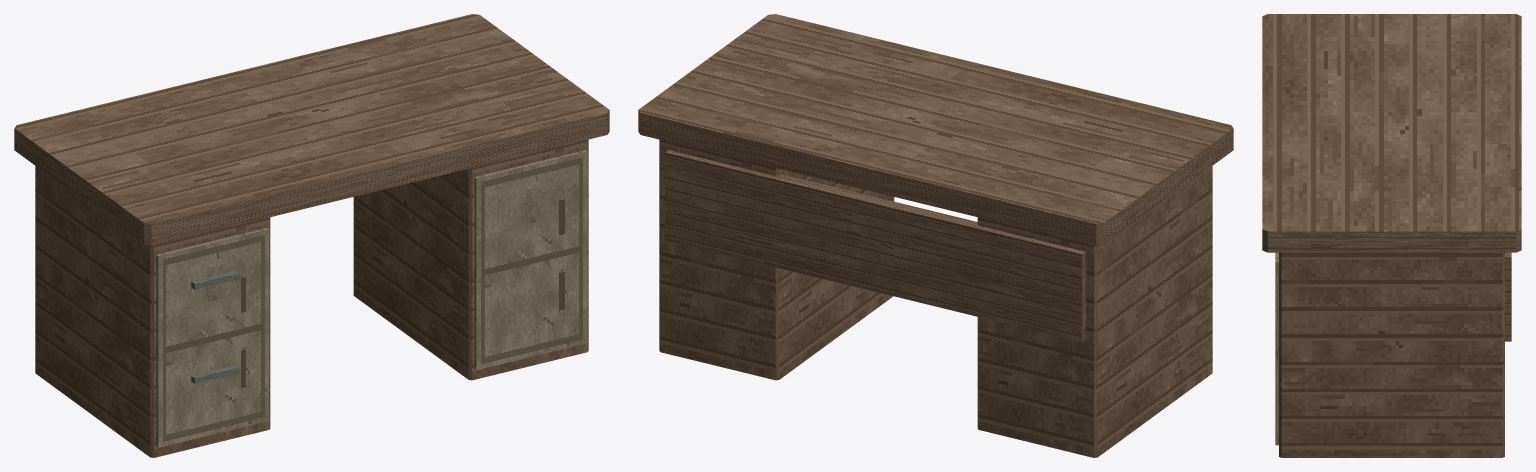
The model's file is desk.glb.
3 views of the same model, side by side, from view 1: azimuth 30°, elevation 25°; view 2: azimuth 150°, elevation 25°; view 3: azimuth 270°, elevation 25° (orthographic). The views are drawn at different scales.
Parts seen in each view (by area): view 1: Body; view 2: Body; view 3: Body.
Boxes of the visible parts, x1,y1,x2,y2 form: Body: [14, 14, 609, 457]; Body: [638, 14, 1233, 457]; Body: [1262, 14, 1521, 457].
Bounding box in the file's own units: 1.55 × 0.773 × 0.78.
Materials: 1 (1 with a texture image).
